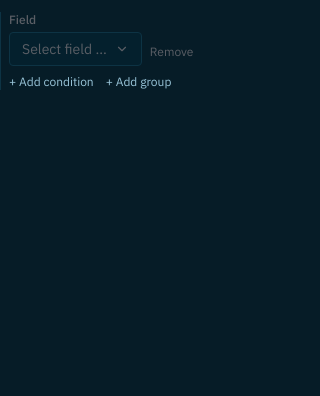
Test: FilterConditionBuilder › renders all fields from FILTER_FIELDS in the field dropdown (no hardcoded count)
Click the text "Field": [23, 20] box [9, 12, 36, 27]
(page scrolled)
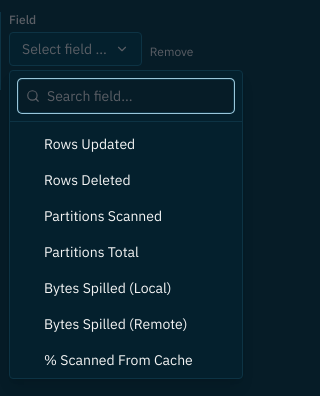
Result: the text "Rows Updated" is shown at [44, 134, 135, 154]
Result: the text "Rows Deleted" is shown at [44, 170, 131, 190]
Result: the text "Partitions Scanned" is shown at [44, 206, 162, 226]
